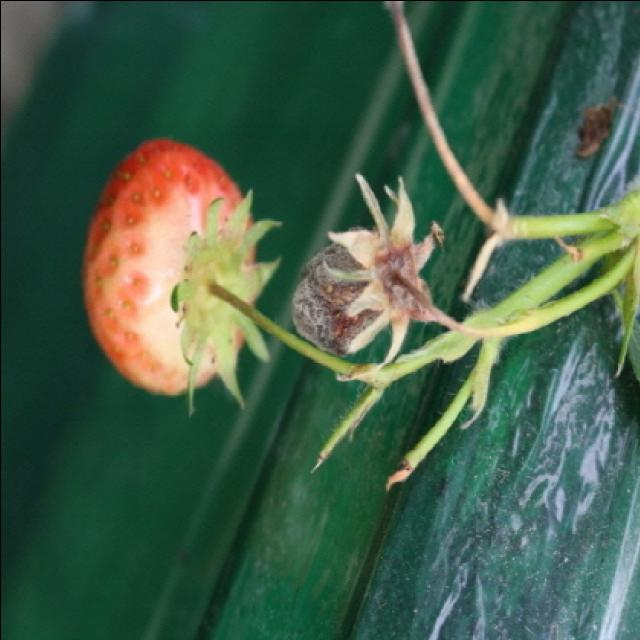Gray Mold: (288, 170, 451, 381)
